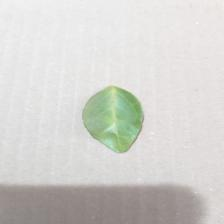greening: (72, 84, 157, 158)
